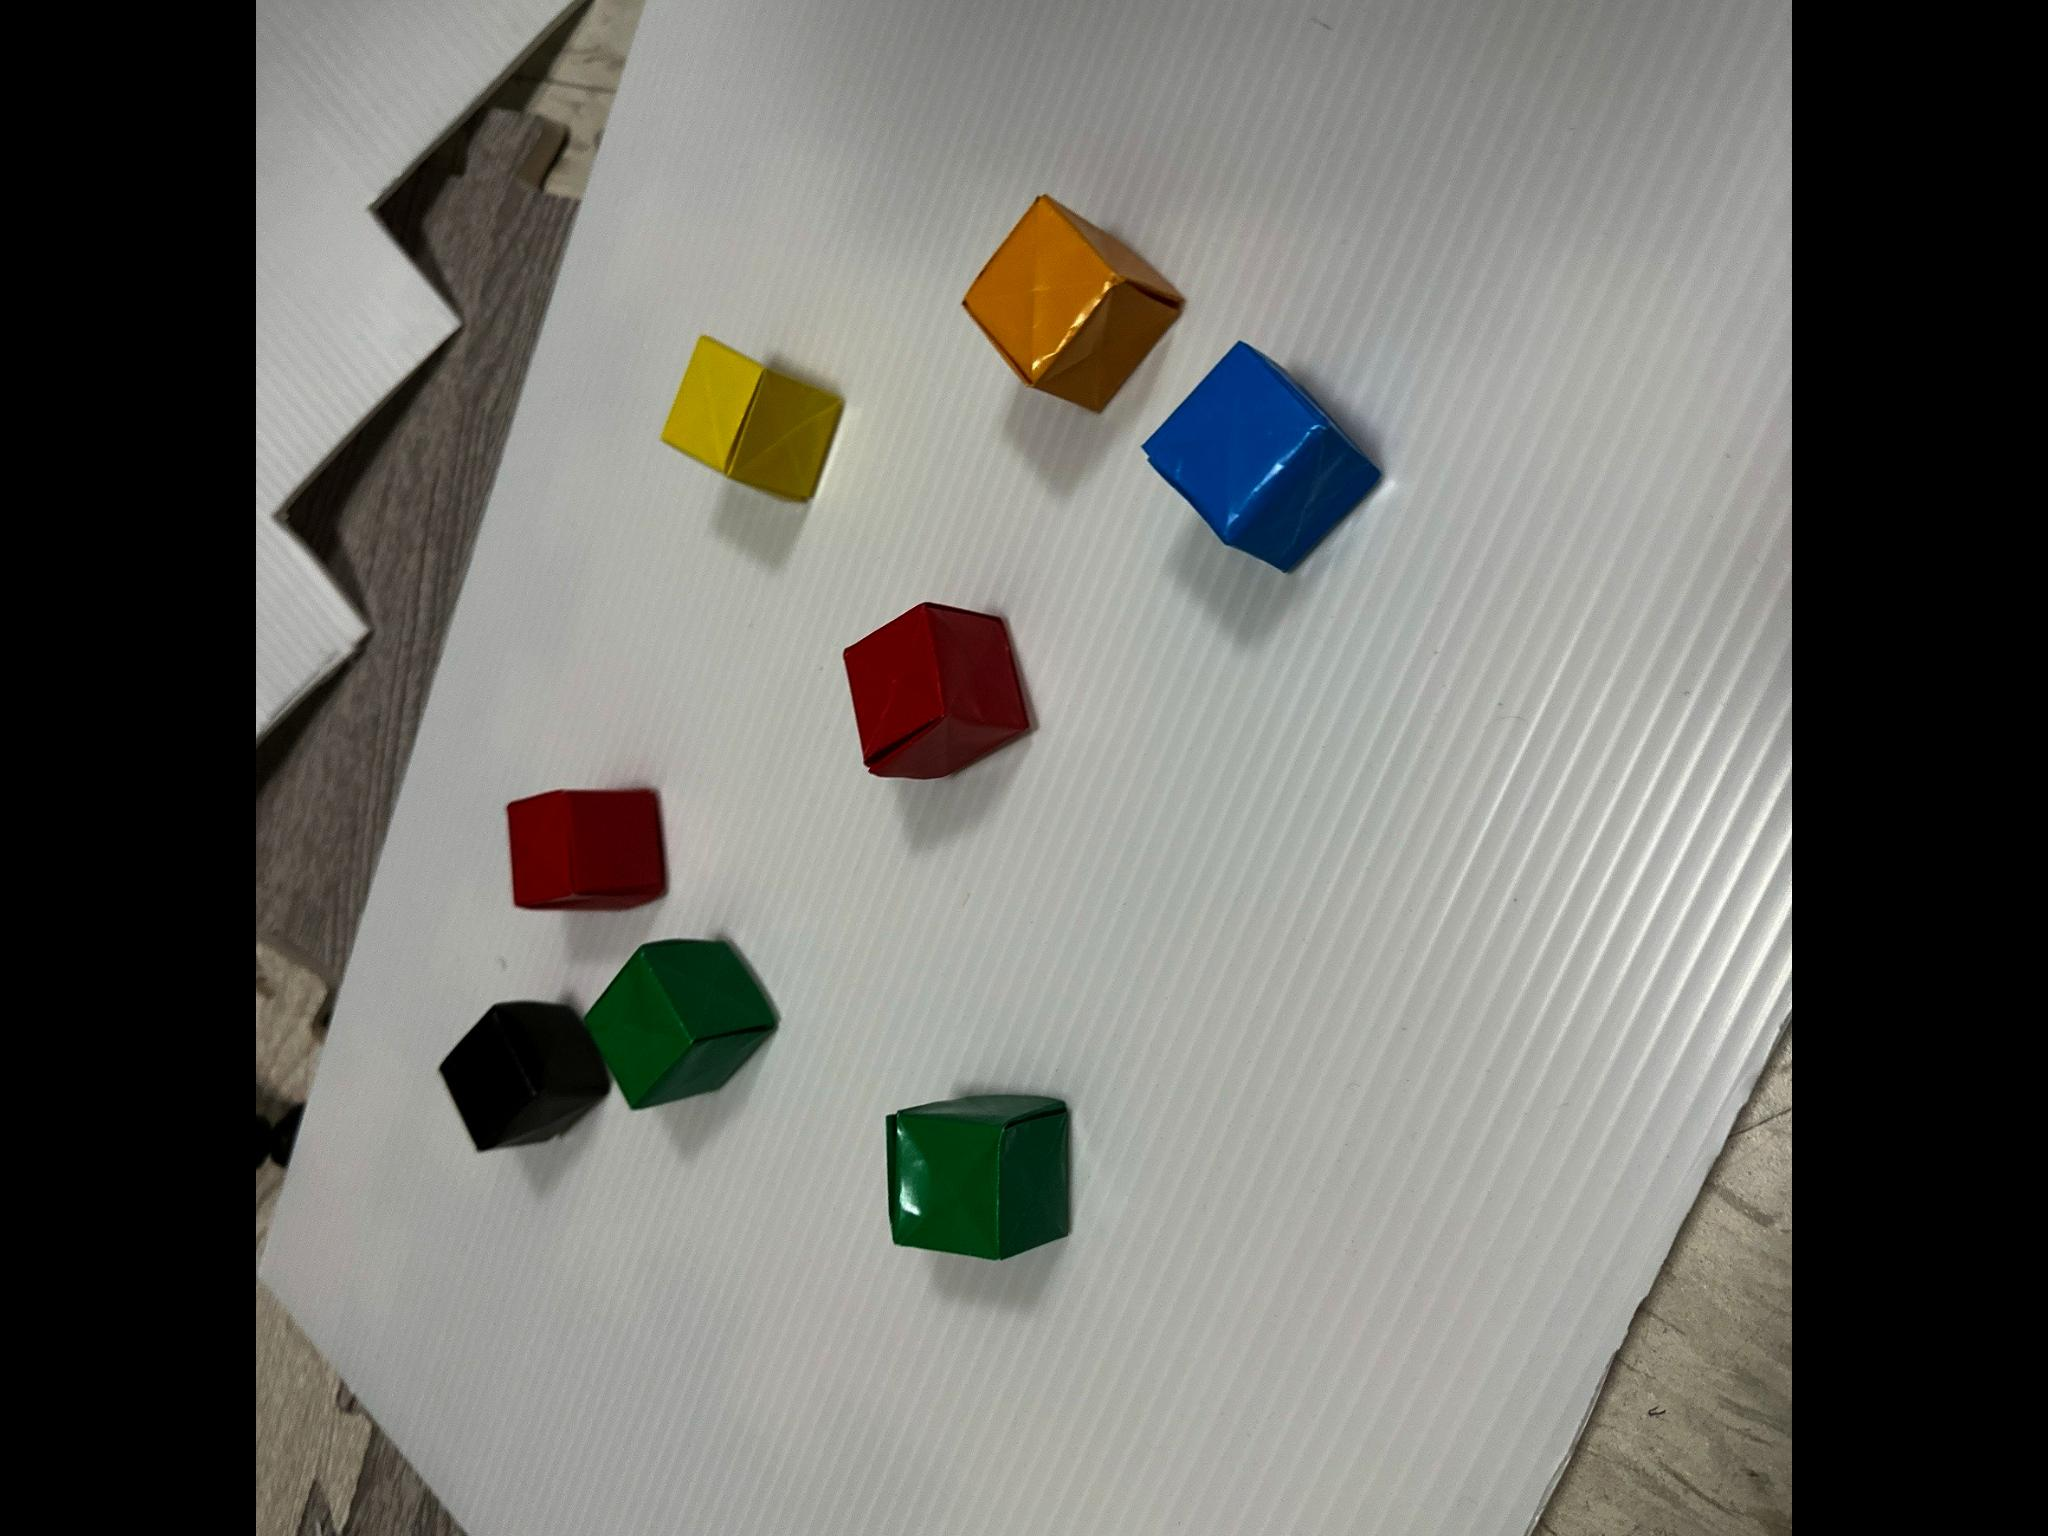base: (1143, 342, 1380, 571), (964, 195, 1180, 408), (584, 939, 776, 1107), (845, 603, 1027, 778), (663, 334, 842, 500), (887, 1094, 1069, 1257), (440, 1002, 606, 1149), (508, 787, 664, 910)
